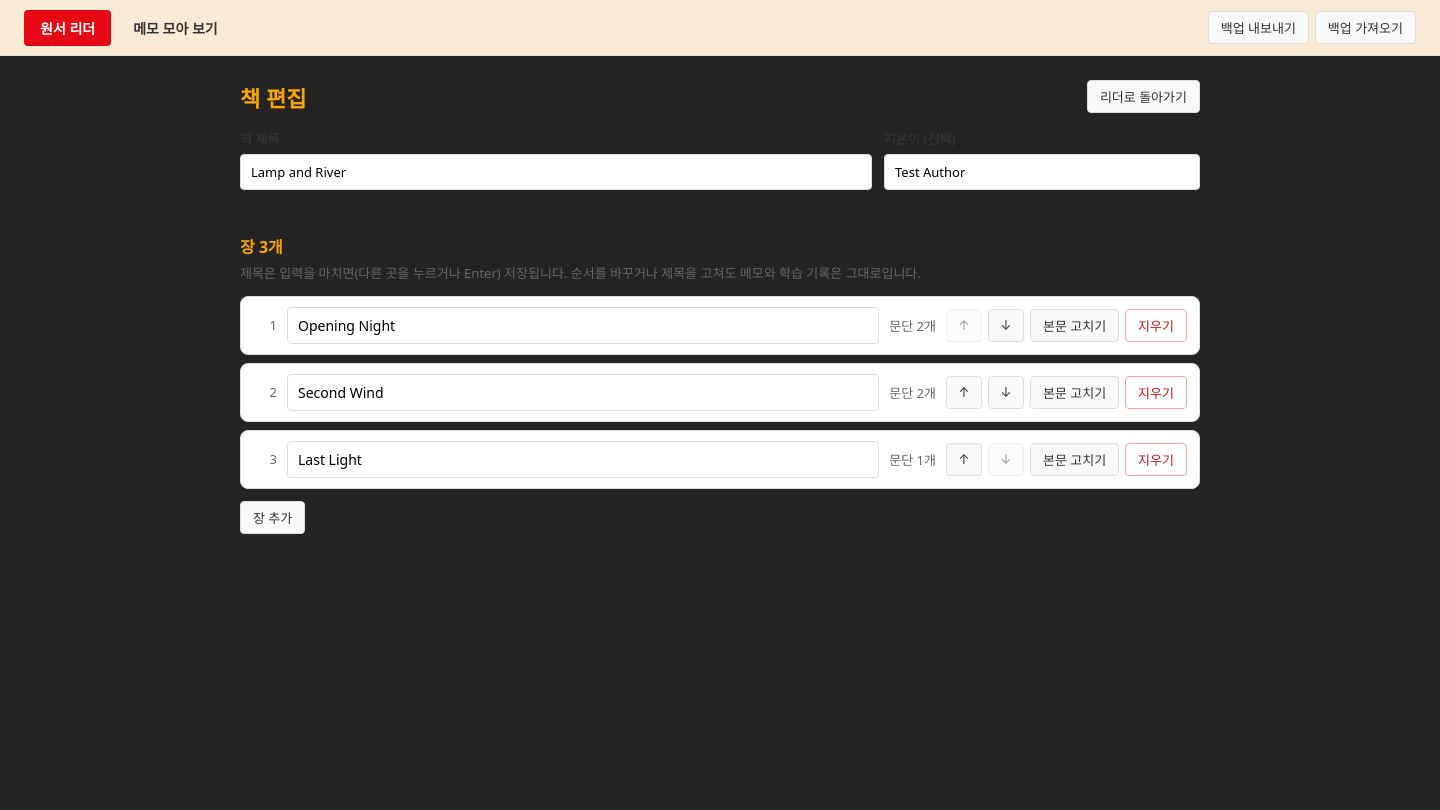
Test: book-edit 4.1 책 편집 화면 › 4.7-3 책 편집 화면의 저장이 resource-exhausted 오류로 실패하면 그 종류의 안내가 보이고 화면이 저장소와 같다
Click the button named "「Second Wind」 위로".
click(964, 392)  # box [946, 376, 982, 408]
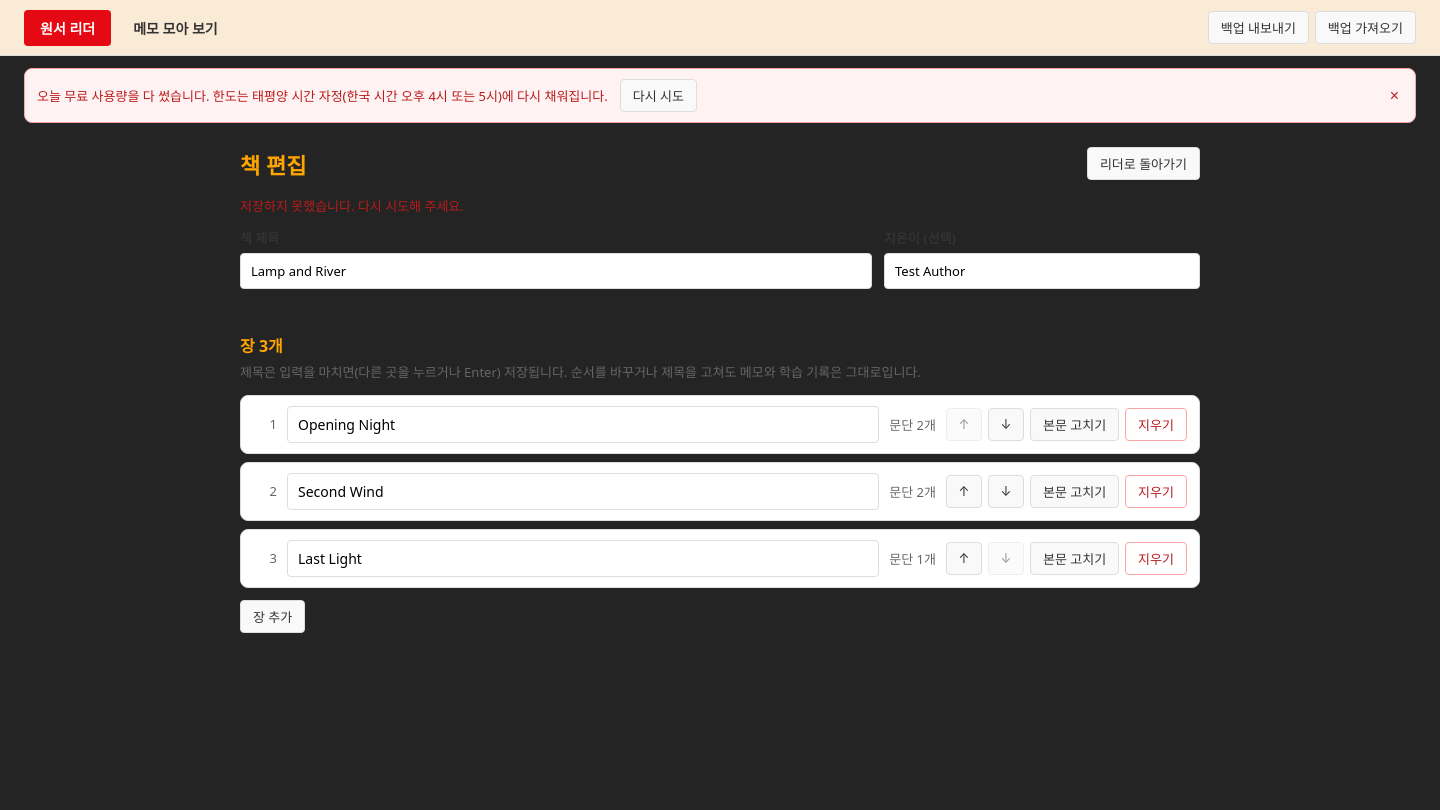
Result: the text "오늘 무료 사용량을 다 썼습니다. 한도는 태평양 시간 자정(한국 시간 오후 4시 또는 5시)에 다시 채워집니다." is shown at [37, 86, 608, 105]
Result: the text "저장하지 못했습니다. 다시 시도해 주세요." is shown at [240, 197, 464, 215]
